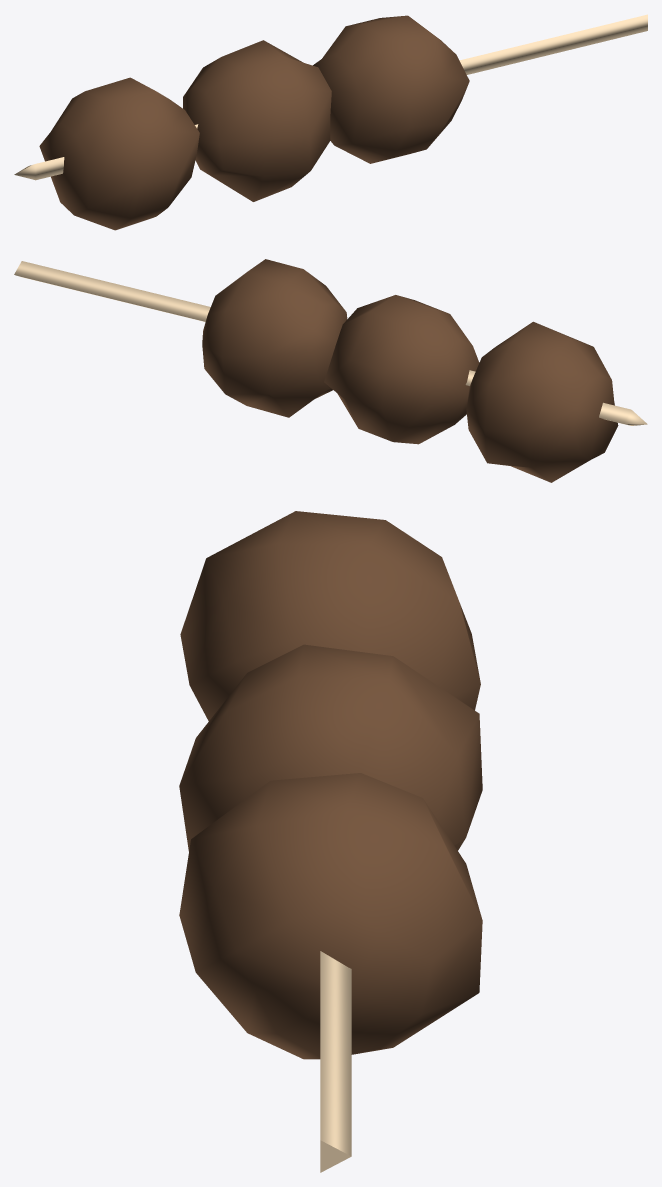
Rendered from MeatBall.fbx.
The picture shows the model from 3 angles, top to bottom: view 1: azimuth 30°, elevation 25°; view 2: azimuth 150°, elevation 25°; view 3: azimuth 270°, elevation 25°; orthographic projection. The views are drawn at different scales.
Visible parts, largest first — view 1: MeatBall; view 2: MeatBall; view 3: MeatBall.
Boxes of the visible parts, x1=… form: MeatBall: x1=14, y1=14, x2=647, y2=230; MeatBall: x1=14, y1=259, x2=647, y2=482; MeatBall: x1=179, y1=511, x2=482, y2=1172.
Size of the model in its own units: 217 by 44.61 by 45.45.
